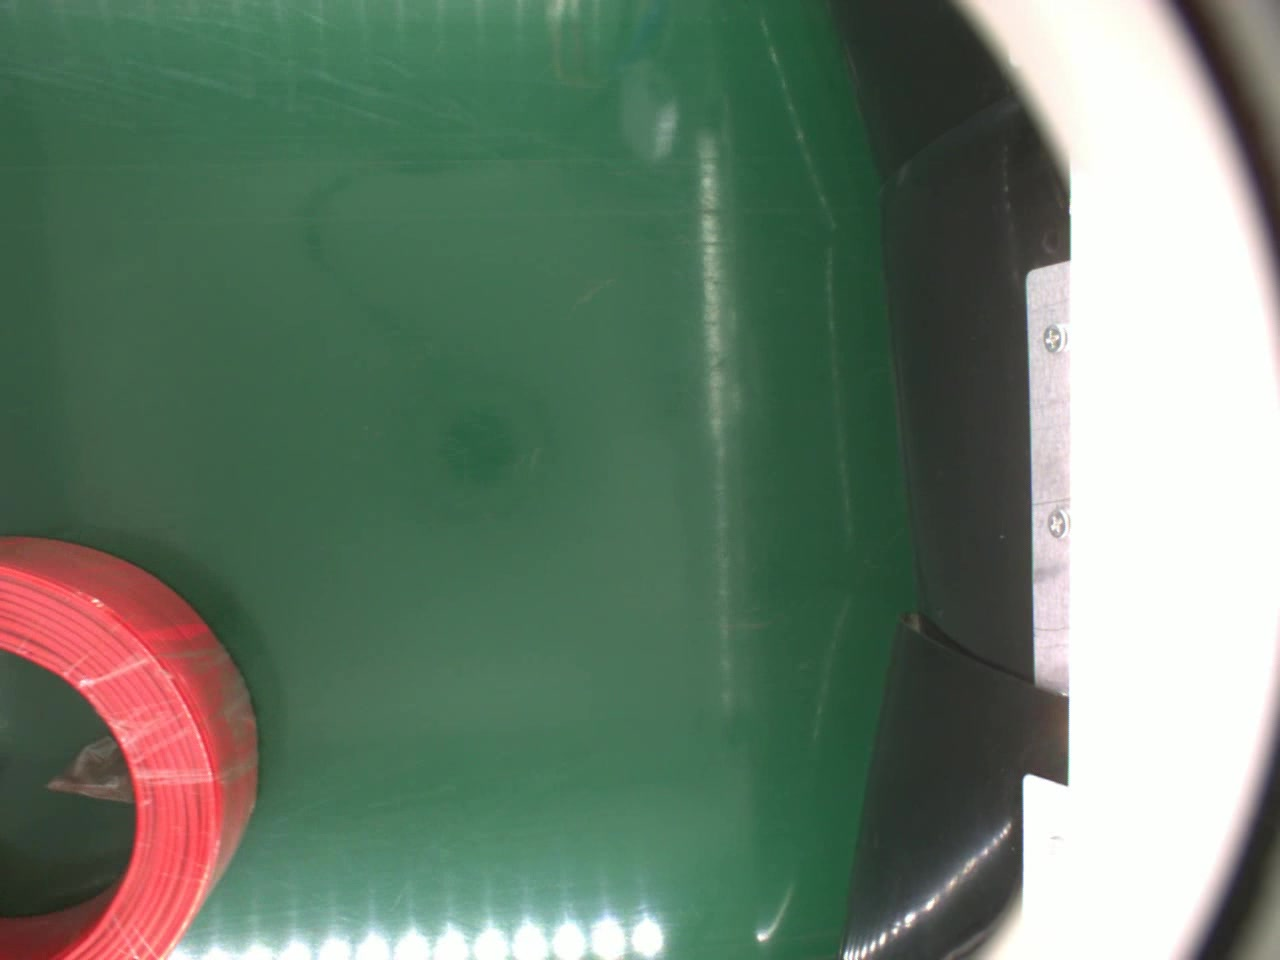red: (0, 533, 261, 960)
